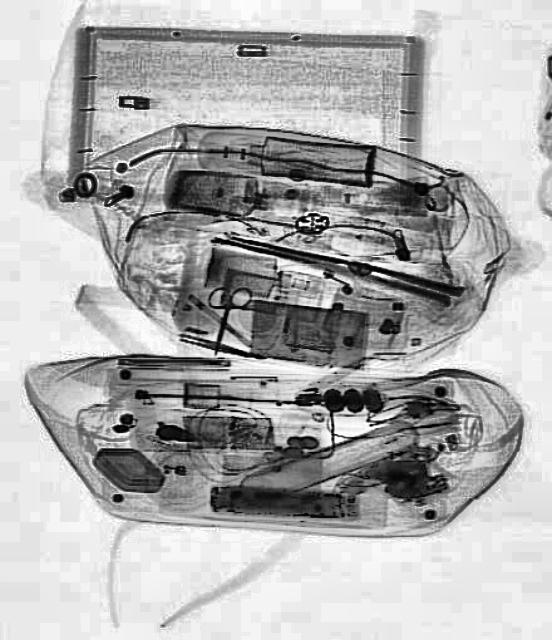Scissors: (194, 278, 252, 360)
